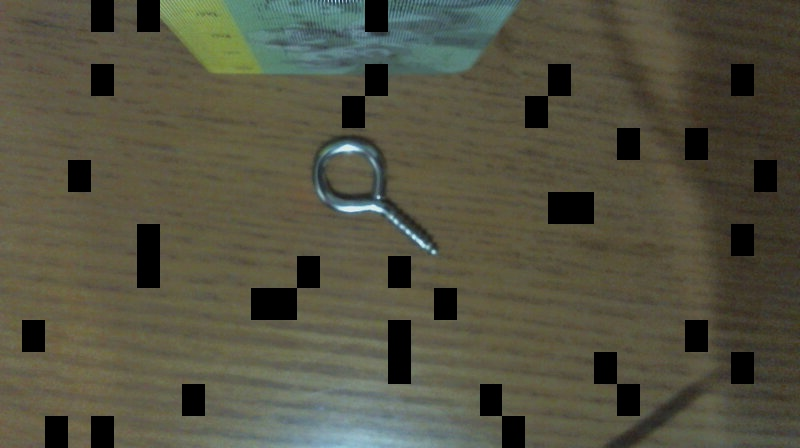O001: (306, 132, 441, 262)
